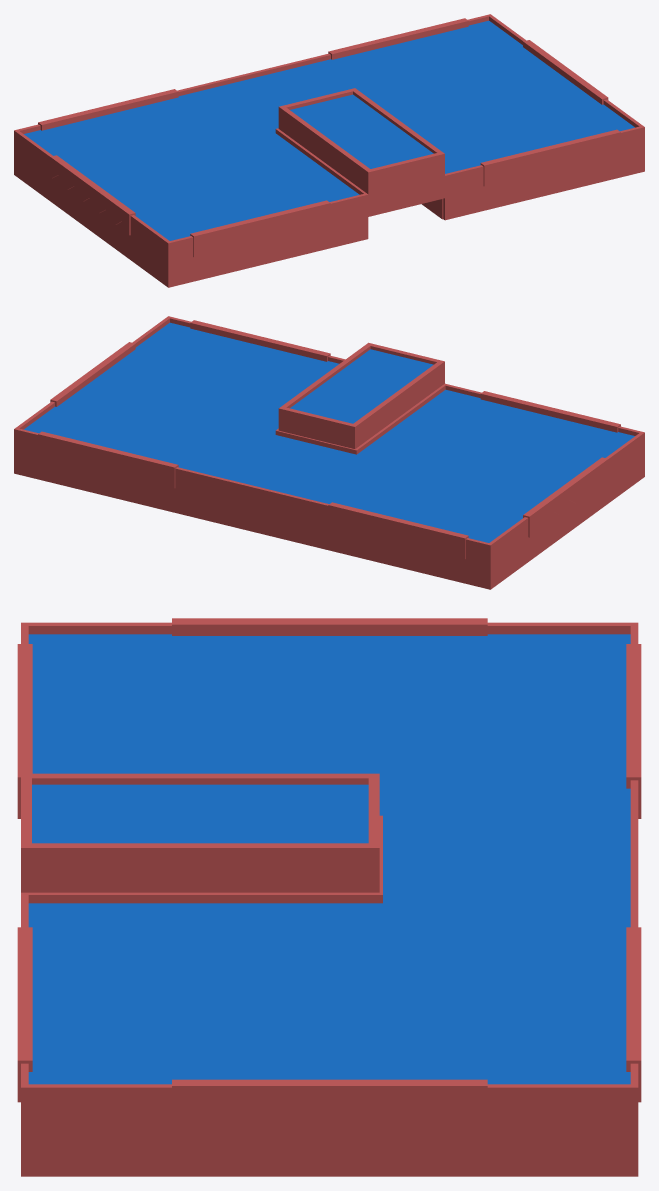
File: SM_house_section_22.fbx
The picture shows the model from 3 angles, top to bottom: view 1: azimuth 30°, elevation 25°; view 2: azimuth 150°, elevation 25°; view 3: azimuth 270°, elevation 25°; orthographic projection. The views are drawn at different scales.
Parts seen in each view (by area): view 1: Cube_3; view 2: Cube_3; view 3: Cube_3.
Boxes of the visible parts, box(x1,y1,x2,y2) form: Cube_3: box(14, 14, 644, 287); Cube_3: box(14, 316, 644, 589); Cube_3: box(17, 618, 641, 1176).
Bounding box in the file's own units: 2823 × 375 × 1590.
